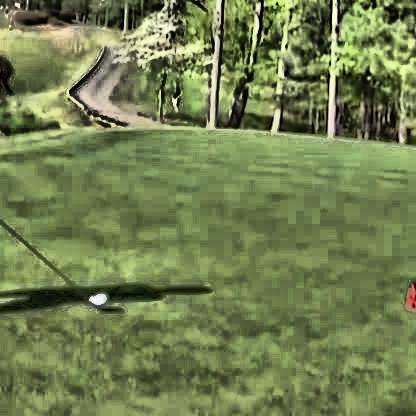golfball: (90, 295, 108, 305)
